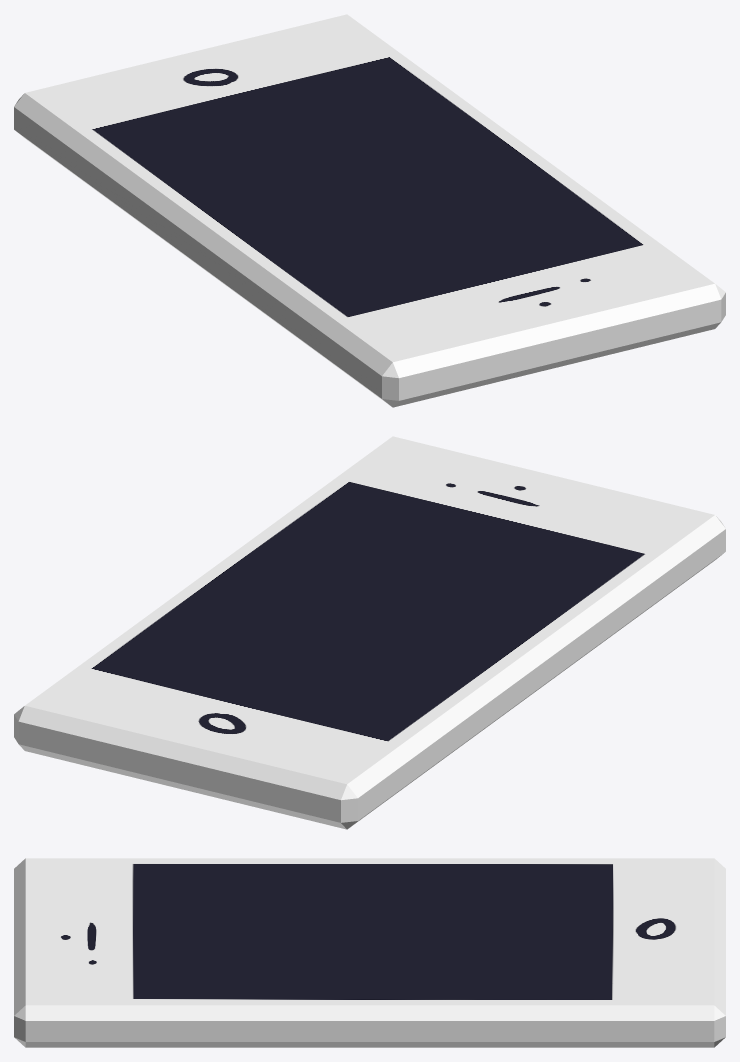
Rendered from telefoon.fbx.
3 views of the same model, one above another, from view 1: azimuth 30°, elevation 25°; view 2: azimuth 150°, elevation 25°; view 3: azimuth 270°, elevation 25° (orthographic). The views are drawn at different scales.
Parts seen in each view (by area): view 1: telefoon:pCube17; view 2: telefoon:pCube17; view 3: telefoon:pCube17.
Boxes of the visible parts, x1,y1,x2,y2 form: telefoon:pCube17: (14,14,725,407); telefoon:pCube17: (14,436,725,829); telefoon:pCube17: (14,858,725,1047).
Size of the model in its own units: 0.1337 by 0.0168 by 0.2561.
